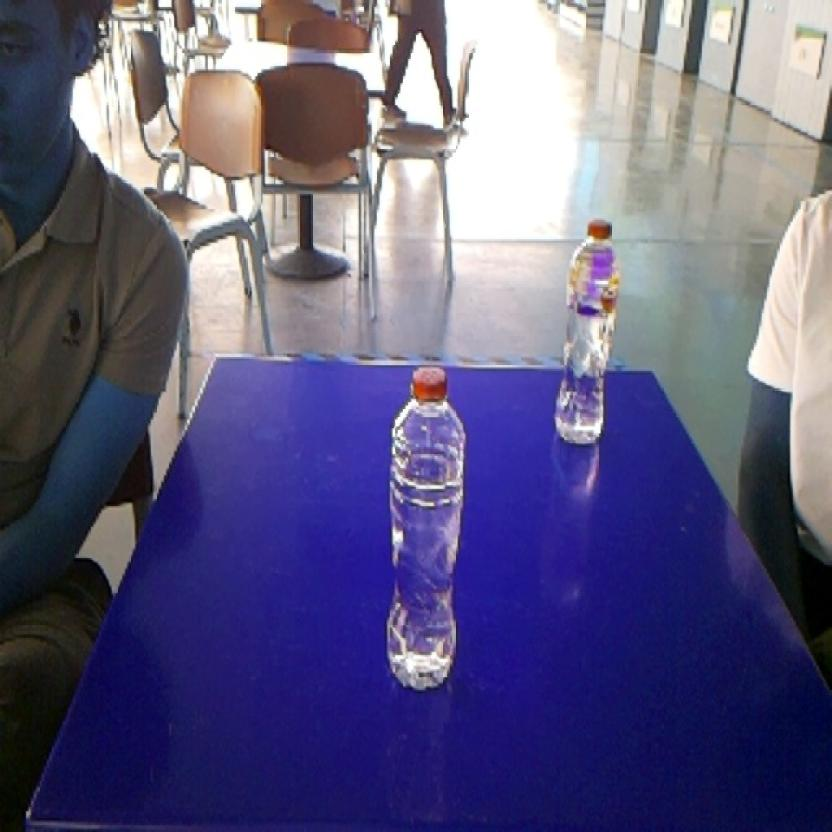good: (548, 211, 632, 449)
no_label: (379, 347, 472, 698)
